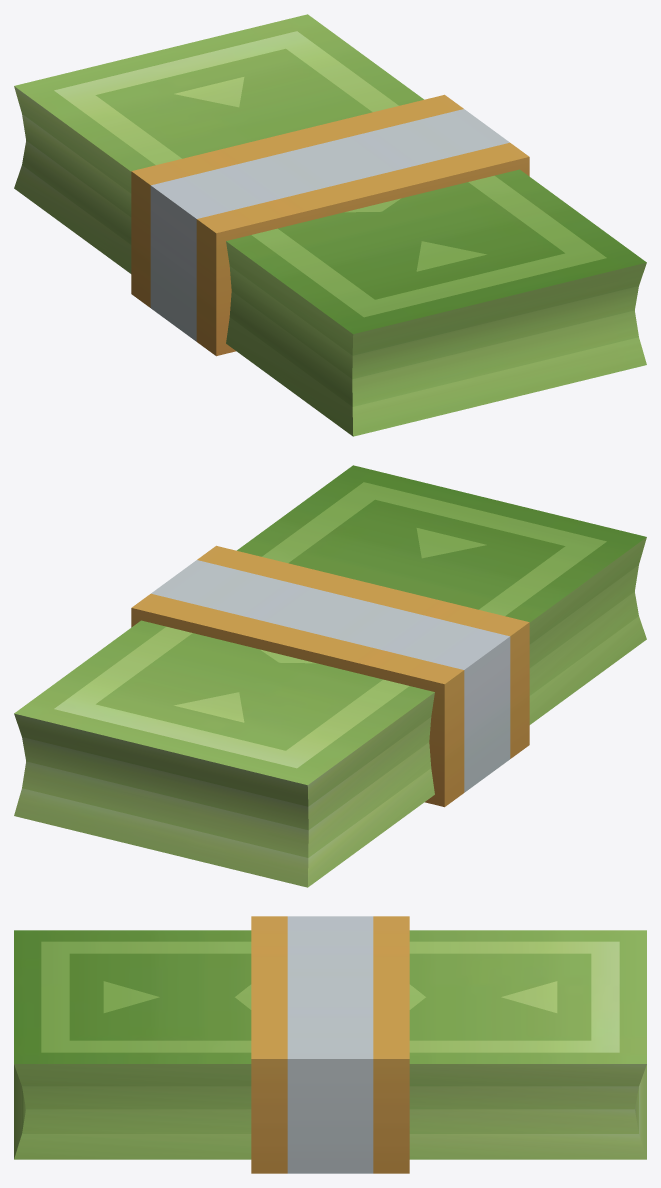
Rendered from money_bills_stack_small.glb.
3 views of the same model, one above another, from view 1: azimuth 30°, elevation 25°; view 2: azimuth 150°, elevation 25°; view 3: azimuth 270°, elevation 25° (orthographic). The views are drawn at different scales.
Visible parts, largest first — view 1: Money_Bills_Stack_Small; view 2: Money_Bills_Stack_Small; view 3: Money_Bills_Stack_Small.
Boxes of the visible parts, x1=… form: Money_Bills_Stack_Small: x1=14, y1=14, x2=646, y2=436; Money_Bills_Stack_Small: x1=14, y1=465, x2=646, y2=887; Money_Bills_Stack_Small: x1=14, y1=916, x2=646, y2=1173.
Size of the model in its own units: 0.32 by 0.12 by 0.6.
1 material, 1 textured.
